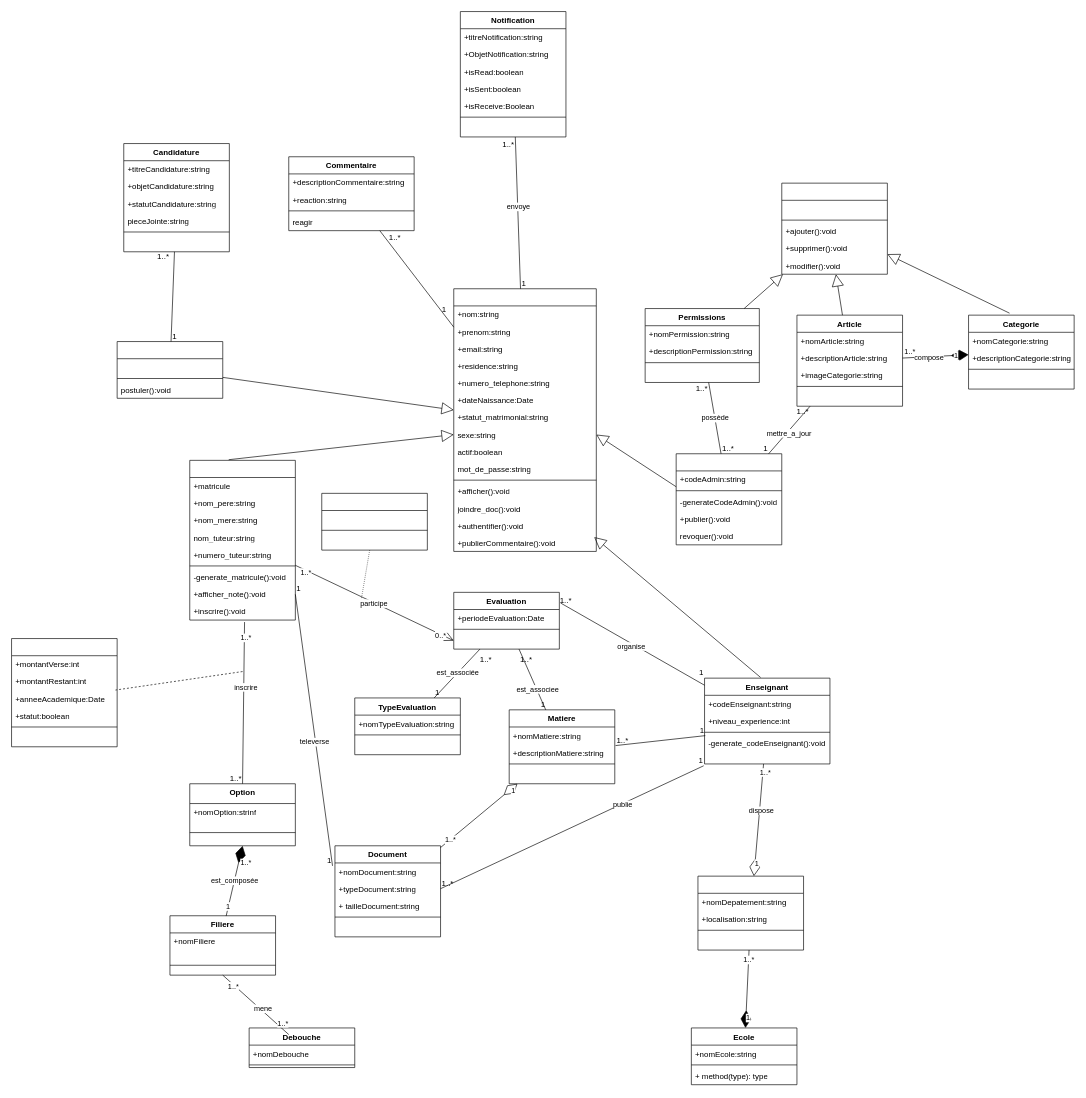
Image size: 1086x1098. Some labels were removed from this diagram. Each missing label, with the box of its shape:
+noteDefinitive:float: (321, 493, 427, 550)
Administrateur: (676, 453, 782, 545)
Departement: (697, 875, 804, 950)
Etudiant: (189, 460, 295, 620)
Operation: (781, 182, 887, 274)
Personne: (453, 288, 596, 551)
Visiteur: (116, 341, 223, 398)
